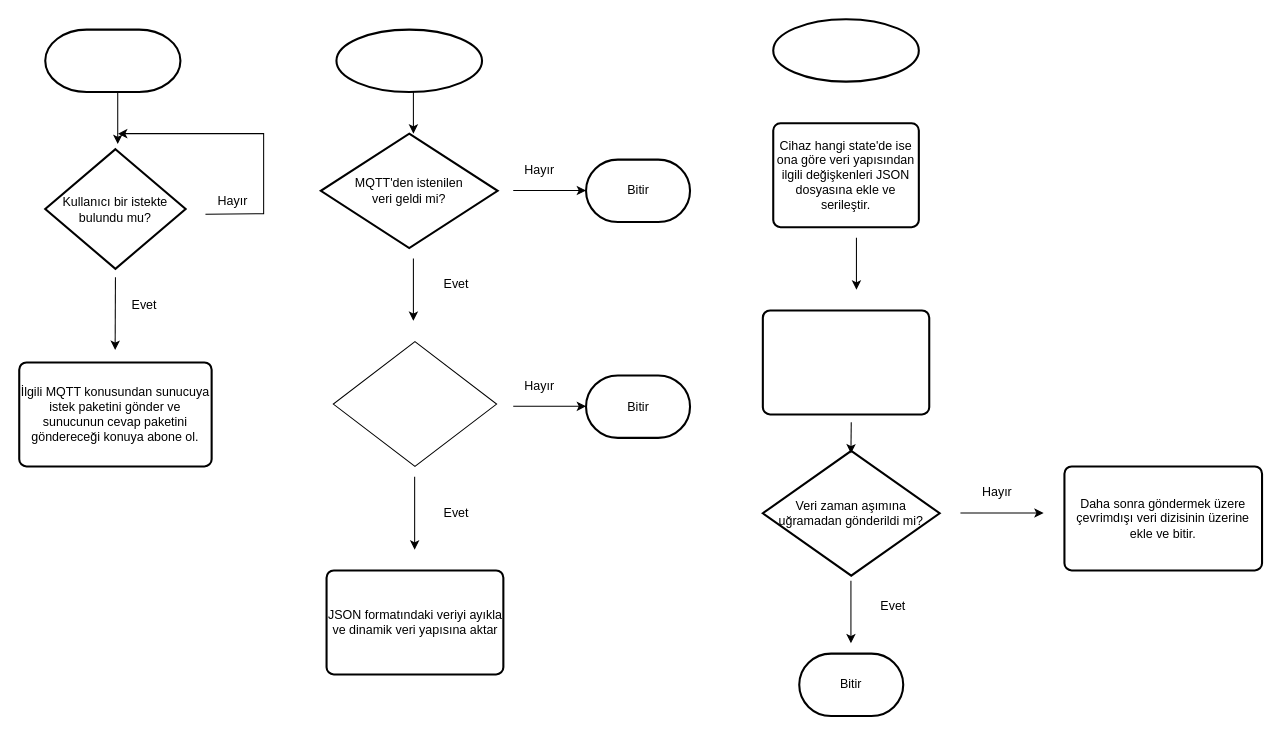
Image size: 1280x734. Some labels were removed from this diagram. The shapes that lost their labels are listed below. From the top down, each one's box as (x1, y1, x2, y2) in pixels, then its label:
(44, 28, 181, 93): Başla
(335, 28, 483, 93): MQTT Veri Alma Olayı
(772, 18, 919, 82): MQTT Veri Gönderme Çağrısı
(761, 309, 930, 415): İlgili state'e ait konuya MQTT üzerinden gönder.
(332, 341, 497, 466): Veri abone olunan konuya ait ve ilgili anahtar kelimeleri içeriyor mu?
